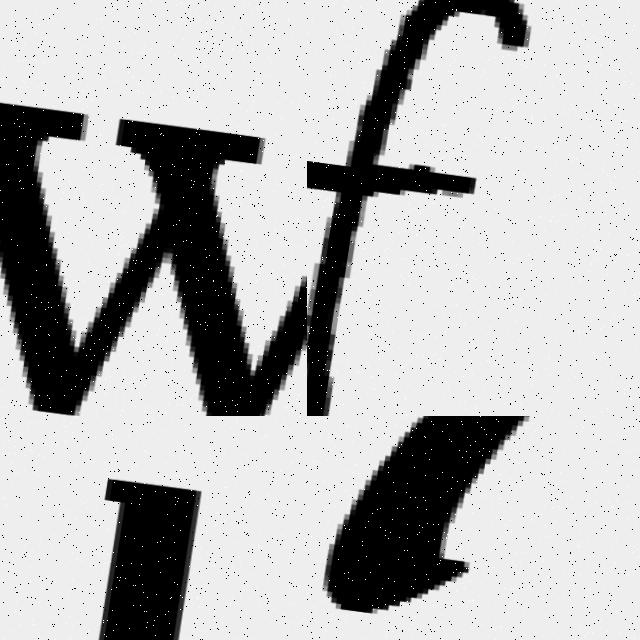7: (310, 416, 640, 640)
F: (307, 0, 529, 416)
I: (34, 416, 260, 640)
W: (0, 76, 307, 416)
